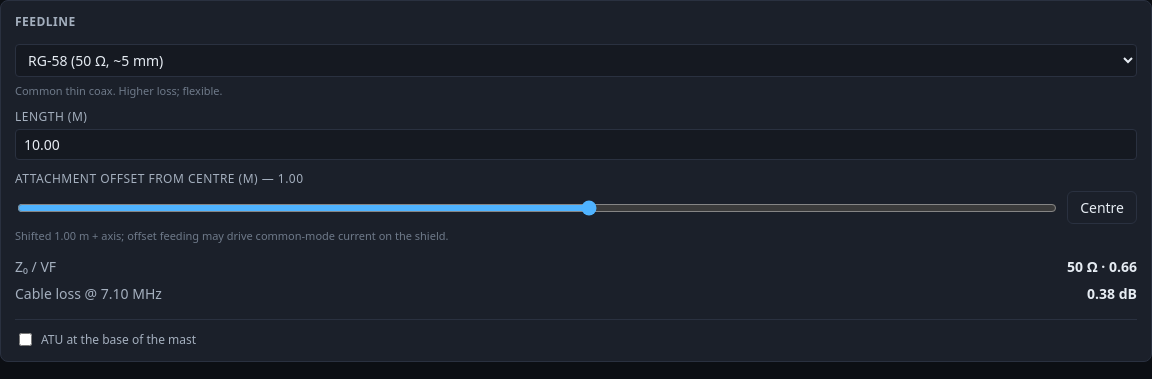
Test case: FeedlineControl › updates the feedline length and snaps back to the store value on blur
Replace the text in the number field labelled "Length (m)" with "25" at (576,144), box [15,129,1137,160]
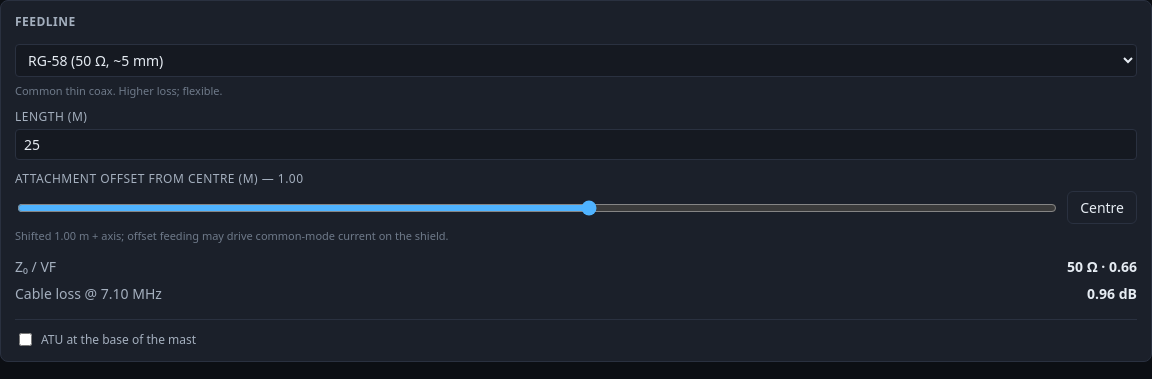
Leave the number field labelled "Length (m)", box [15,129,1137,160]
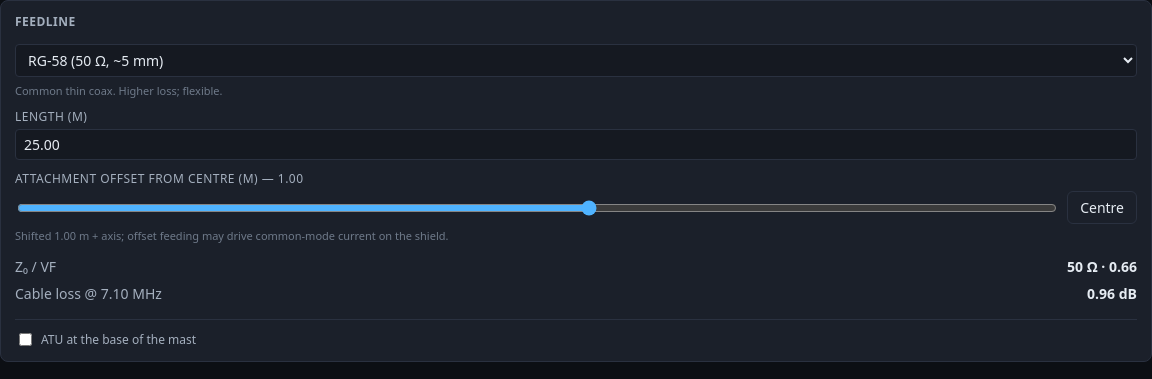
Check: the number field labelled "Length (m)" holds "25.00", box [15,129,1137,160]
